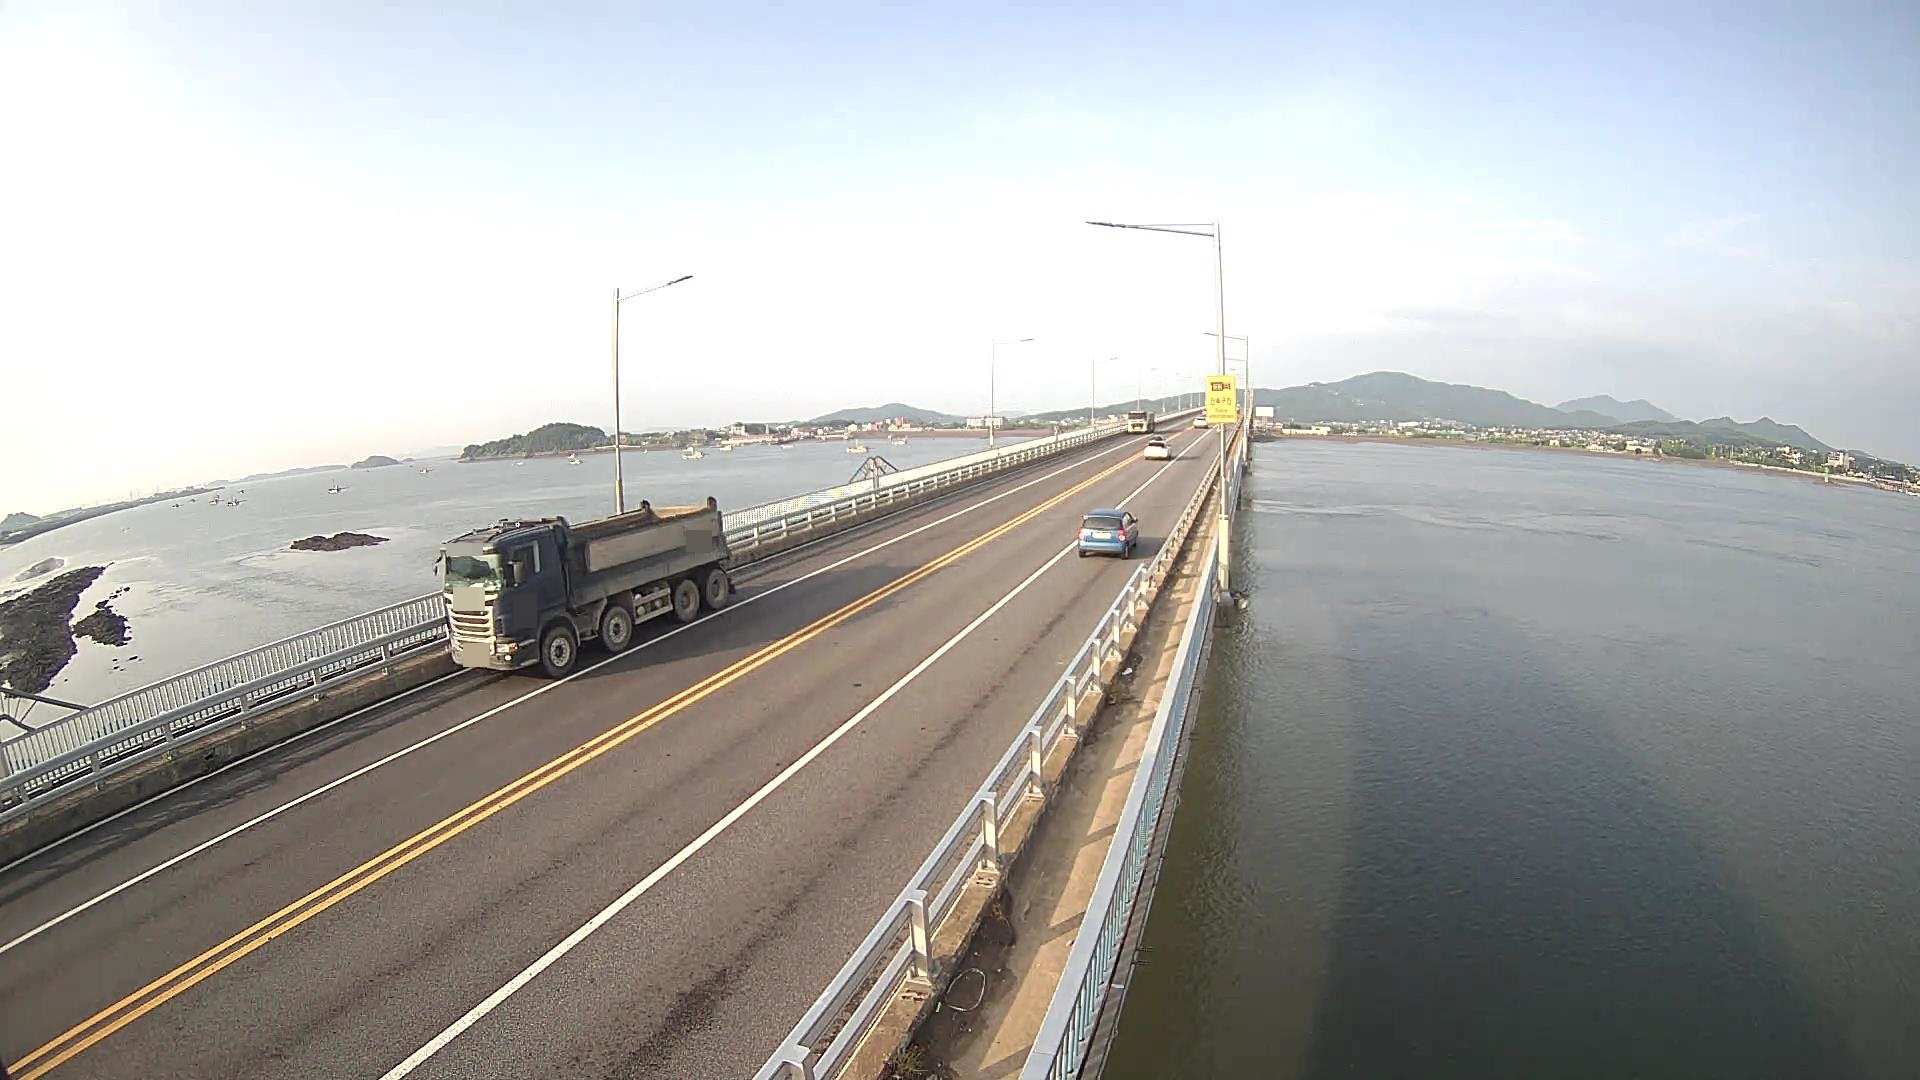정상차량: (433, 496, 737, 678)
